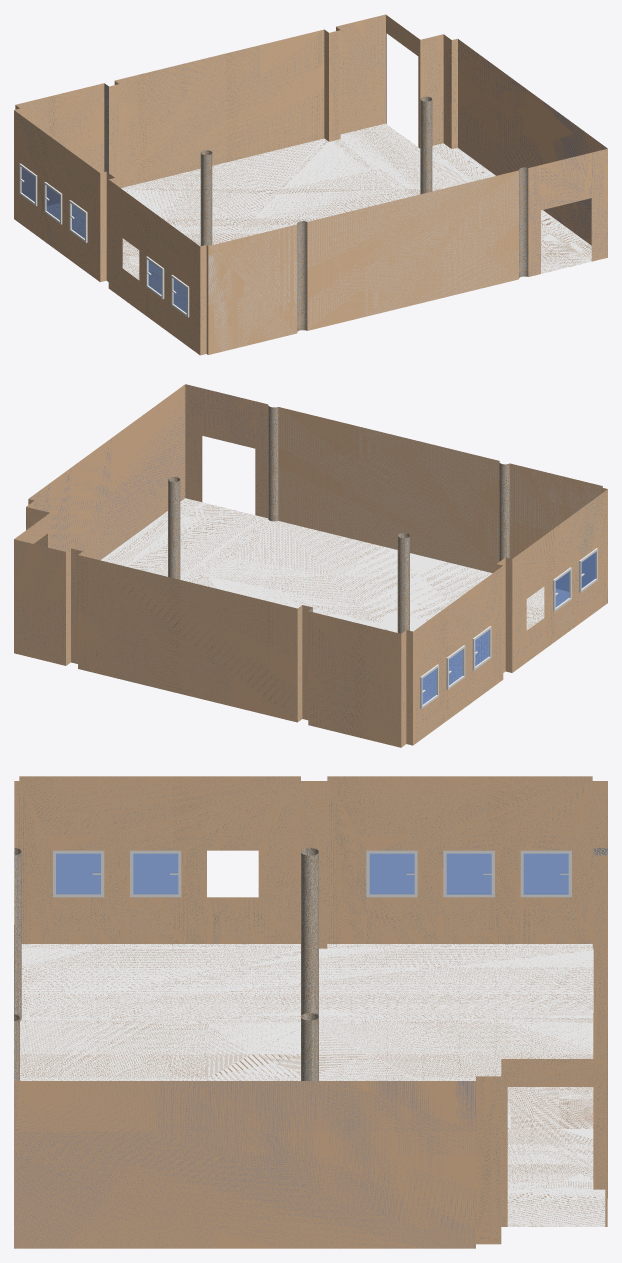
File: AUL026.obj
3 renders of one model, top to bottom at view 1: azimuth 30°, elevation 25°; view 2: azimuth 150°, elevation 25°; view 3: azimuth 270°, elevation 25°, orthographic. The views are drawn at different scales.
Parts seen in each view (by area): view 1: Mesh16 AUL026 Model, Mesh7 ventana3_1_3 AUL026 Model, Mesh4 ventana3_1_2 AUL026 Model, Mesh10 ventana3_1_4 AUL026 Model, Mesh13 ventana3_1_5 AUL026 Model, Mesh1 ventana3_1_1 AUL026 Model; view 2: Mesh16 AUL026 Model, Mesh10 ventana3_1_4 AUL026 Model, Mesh13 ventana3_1_5 AUL026 Model, Mesh4 ventana3_1_2 AUL026 Model, Mesh1 ventana3_1_1 AUL026 Model, Mesh7 ventana3_1_3 AUL026 Model; view 3: Mesh16 AUL026 Model, Mesh10 ventana3_1_4 AUL026 Model, Mesh13 ventana3_1_5 AUL026 Model, Mesh1 ventana3_1_1 AUL026 Model, Mesh4 ventana3_1_2 AUL026 Model, Mesh7 ventana3_1_3 AUL026 Model.
Part boxes in pixels (bbox=[...]): Mesh16 AUL026 Model: bbox=[14, 14, 607, 355]; Mesh7 ventana3_1_3 AUL026 Model: bbox=[19, 163, 37, 206]; Mesh4 ventana3_1_2 AUL026 Model: bbox=[171, 275, 189, 317]; Mesh10 ventana3_1_4 AUL026 Model: bbox=[69, 200, 87, 242]; Mesh13 ventana3_1_5 AUL026 Model: bbox=[44, 182, 62, 224]; Mesh1 ventana3_1_1 AUL026 Model: bbox=[146, 256, 164, 298]; Mesh16 AUL026 Model: bbox=[14, 384, 607, 747]; Mesh10 ventana3_1_4 AUL026 Model: bbox=[472, 626, 491, 670]; Mesh13 ventana3_1_5 AUL026 Model: bbox=[446, 645, 465, 689]; Mesh4 ventana3_1_2 AUL026 Model: bbox=[579, 548, 597, 592]; Mesh1 ventana3_1_1 AUL026 Model: bbox=[553, 567, 571, 611]; Mesh7 ventana3_1_3 AUL026 Model: bbox=[420, 664, 438, 708]; Mesh16 AUL026 Model: bbox=[14, 776, 607, 1248]; Mesh10 ventana3_1_4 AUL026 Model: bbox=[366, 850, 417, 897]; Mesh13 ventana3_1_5 AUL026 Model: bbox=[443, 850, 494, 897]; Mesh1 ventana3_1_1 AUL026 Model: bbox=[130, 850, 181, 897]; Mesh4 ventana3_1_2 AUL026 Model: bbox=[53, 850, 104, 897]; Mesh7 ventana3_1_3 AUL026 Model: bbox=[520, 850, 571, 897].
Bounding box in the file's own units: 14.08 × 3.6 × 11.55.
8 materials, 2 textured.
